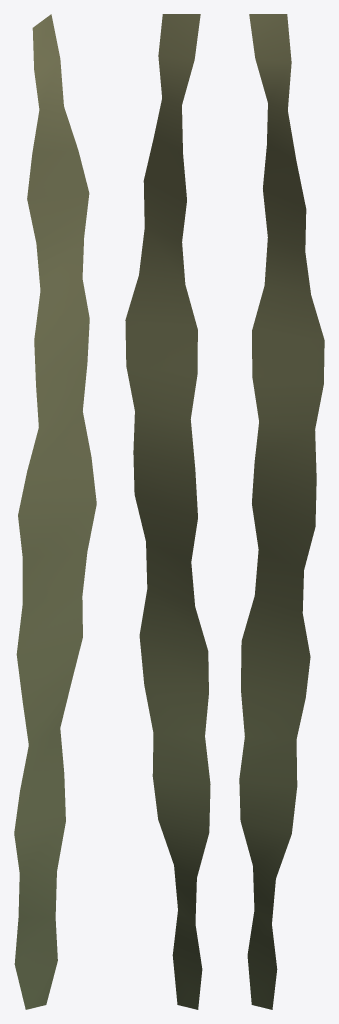
The model's file is kelp_strand.glb.
3 renders of one model, left to right at view 1: azimuth 30°, elevation 25°; view 2: azimuth 150°, elevation 25°; view 3: azimuth 330°, elevation 25°, orthographic.
Visible parts, largest first — view 1: kelp_strand; view 2: kelp_strand; view 3: kelp_strand.
Part boxes in pixels (x1=…): kelp_strand: x1=14, y1=14, x2=96, y2=1009; kelp_strand: x1=125, y1=14, x2=210, y2=1009; kelp_strand: x1=239, y1=14, x2=324, y2=1009.
Bounding box in the file's own units: 0.4642 × 5.5 × 0.1.
